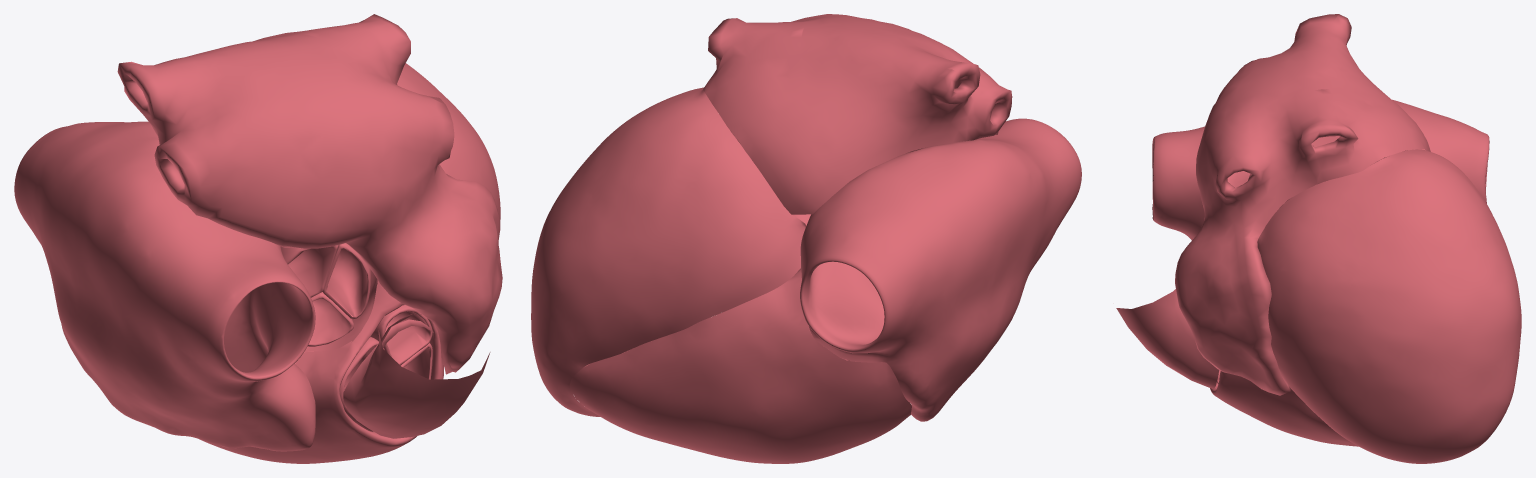
The model's file is thorax__vascular.ccfb1bbde9.glb.
3 renders of one model, left to right at view 1: azimuth 30°, elevation 25°; view 2: azimuth 150°, elevation 25°; view 3: azimuth 270°, elevation 25°, orthographic. The views are drawn at different scales.
Visible parts, largest first — view 1: Left atrium, Right atrium, Right ventricle, Pulmonary trunk, Left ventricle, Left coronary leaflet, Left semilunar leaflet of pulmonary valve, Non-coronary leaflet, Right coronary leaflet, Right semilunar leaflet of pulmonary valve, Anterior semilunar leaflet of pulmonary valve; view 2: Right atrium, Left ventricle, Left atrium, Right ventricle; view 3: Left ventricle, Left atrium, Right atrium, Pulmonary trunk, Right ventricle.
Boxes of the visible parts, <box> form: Left atrium: <box>117,14,502,374</box>; Right atrium: <box>14,121,315,451</box>; Right ventricle: <box>199,280,444,463</box>; Pulmonary trunk: <box>343,314,490,438</box>; Left ventricle: <box>304,63,500,352</box>; Left coronary leaflet: <box>323,243,370,319</box>; Left semilunar leaflet of pulmonary valve: <box>371,305,432,365</box>; Non-coronary leaflet: <box>280,245,338,297</box>; Right coronary leaflet: <box>308,292,353,346</box>; Right semilunar leaflet of pulmonary valve: <box>340,337,384,431</box>; Anterior semilunar leaflet of pulmonary valve: <box>400,343,432,379</box>; Right atrium: <box>800,118,1081,421</box>; Left ventricle: <box>531,87,810,416</box>; Left atrium: <box>703,14,1012,214</box>; Right ventricle: <box>569,268,911,463</box>; Left ventricle: <box>1257,149,1521,463</box>; Left atrium: <box>1175,14,1430,395</box>; Right atrium: <box>1152,99,1489,240</box>; Pulmonary trunk: <box>1116,289,1218,389</box>; Right ventricle: <box>1210,371,1358,446</box>.
Size of the model in its own units: 115 by 109 by 117.
